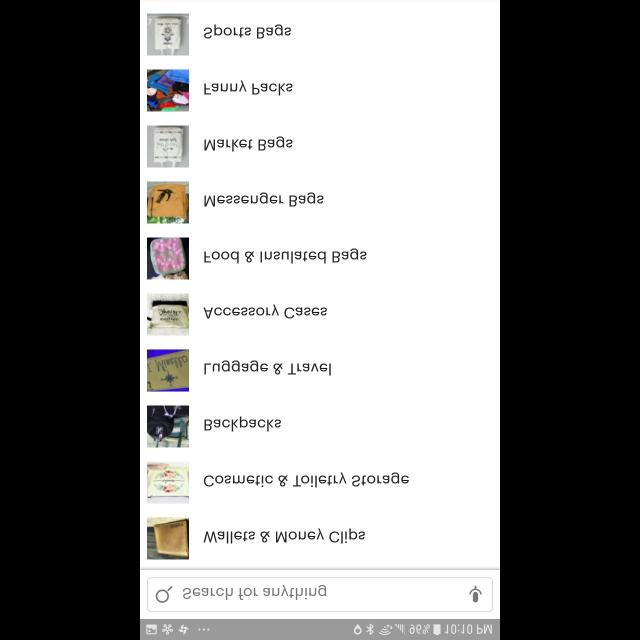icon: (156, 586, 172, 602), (470, 586, 482, 602)
image: (148, 517, 190, 559), (147, 461, 189, 503), (147, 405, 189, 447), (147, 349, 189, 391), (147, 293, 189, 335), (148, 237, 190, 279), (147, 181, 189, 223), (147, 125, 189, 167), (147, 70, 189, 112), (147, 14, 189, 56)
input: (148, 576, 492, 612)
text: (204, 472, 410, 488), (205, 248, 368, 264), (203, 528, 365, 544), (183, 584, 327, 600), (205, 360, 332, 376), (204, 304, 328, 320), (204, 192, 324, 208), (204, 24, 292, 40), (204, 80, 292, 96), (205, 136, 293, 152), (204, 416, 282, 432)
uppertaskbar: (140, 618, 500, 640)
